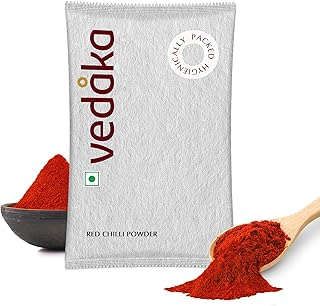Chilli Powder: (2, 1, 319, 306)
